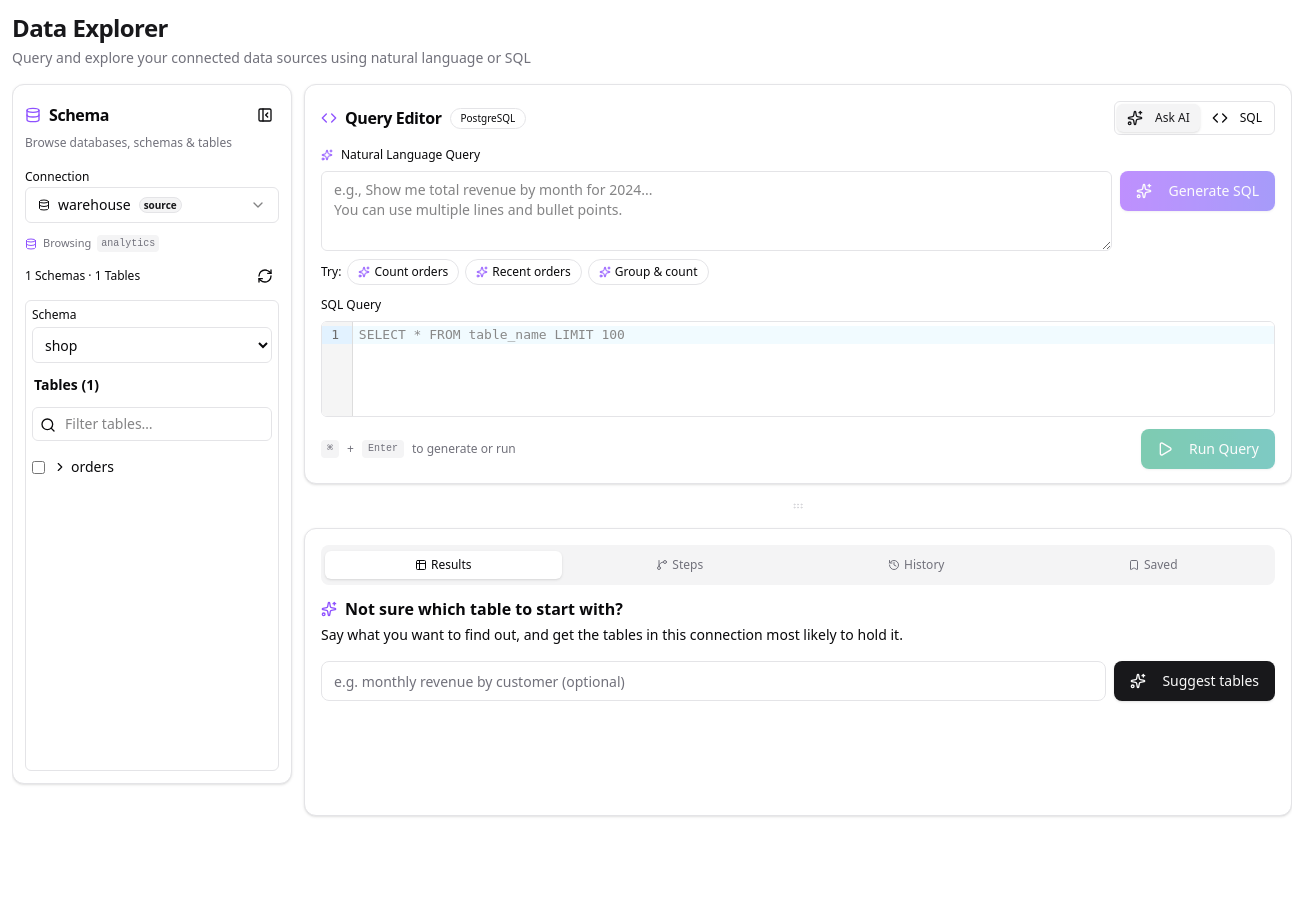
Test: a manual run leaves its own results in front › selects Results after the run, not the step timeline
This screenshot has width=1292, height=912.
Step 1. Click the tab "History" → click(916, 565), box [798,551,1034,579]
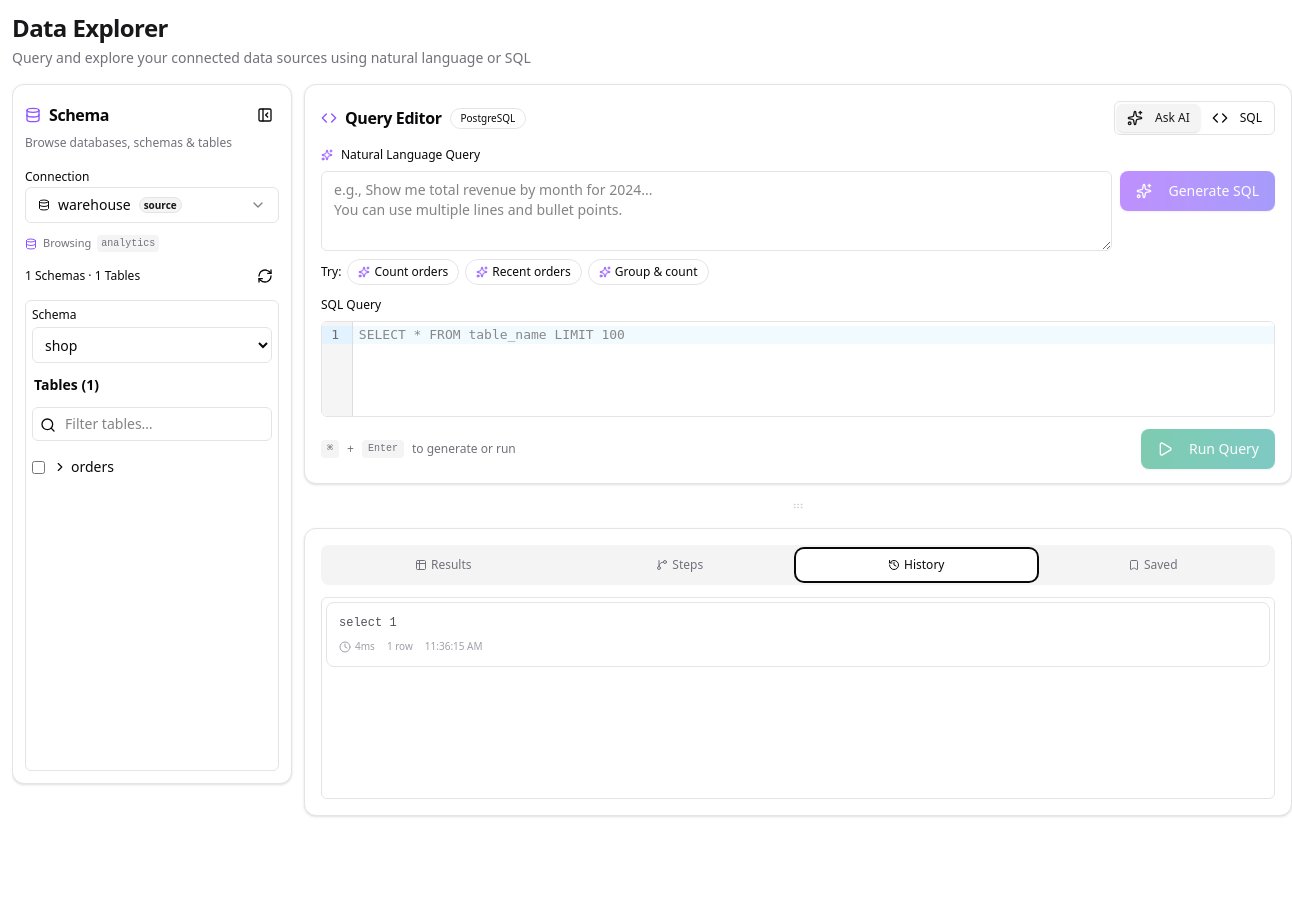
Step 2. Click the button "select 1 4ms 1 row 11:36:15 AM" → click(368, 623), box [326,602,1270,667]
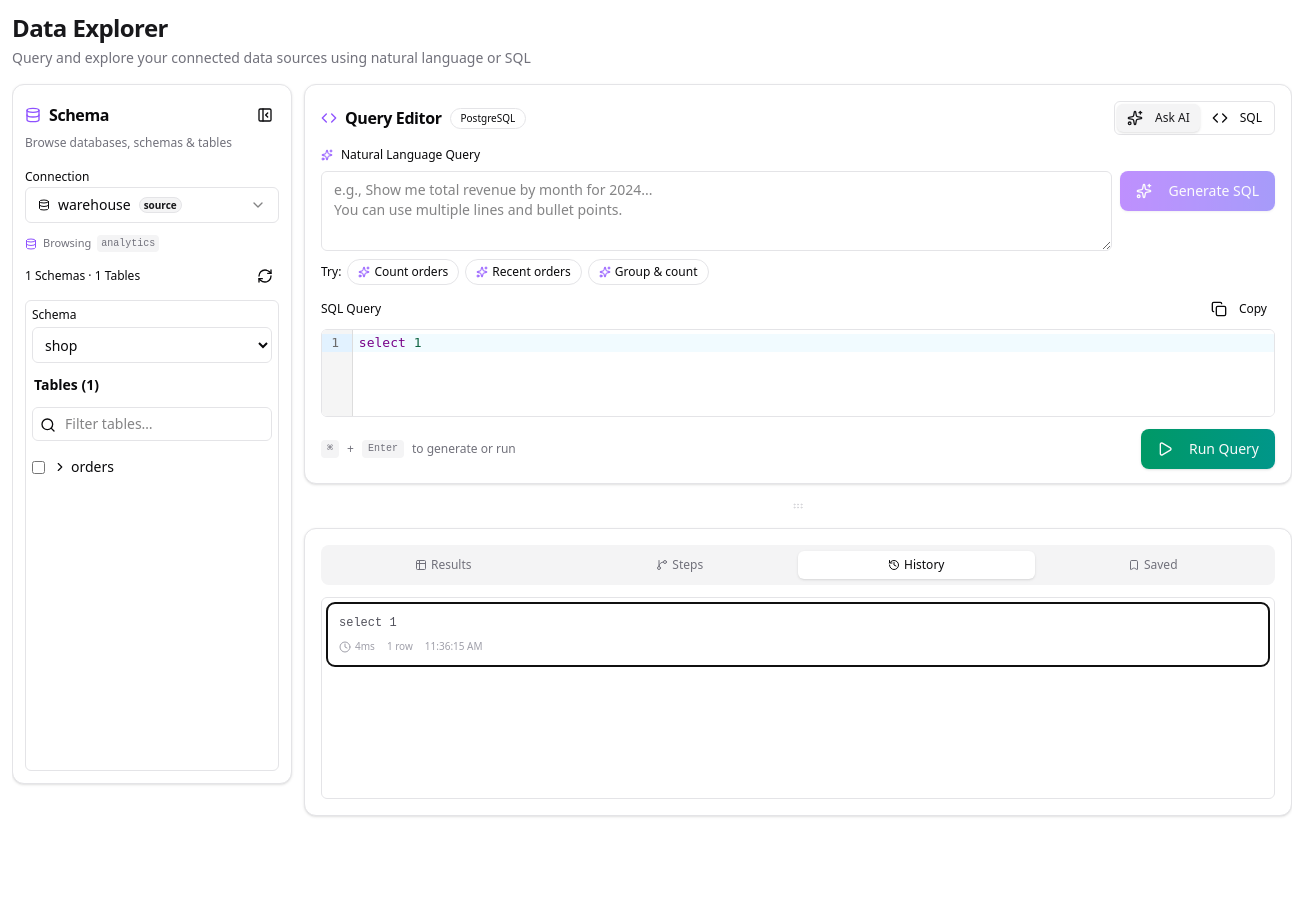
Step 3. Click the button "Run Query" → click(1208, 449), box [1141,429,1275,469]
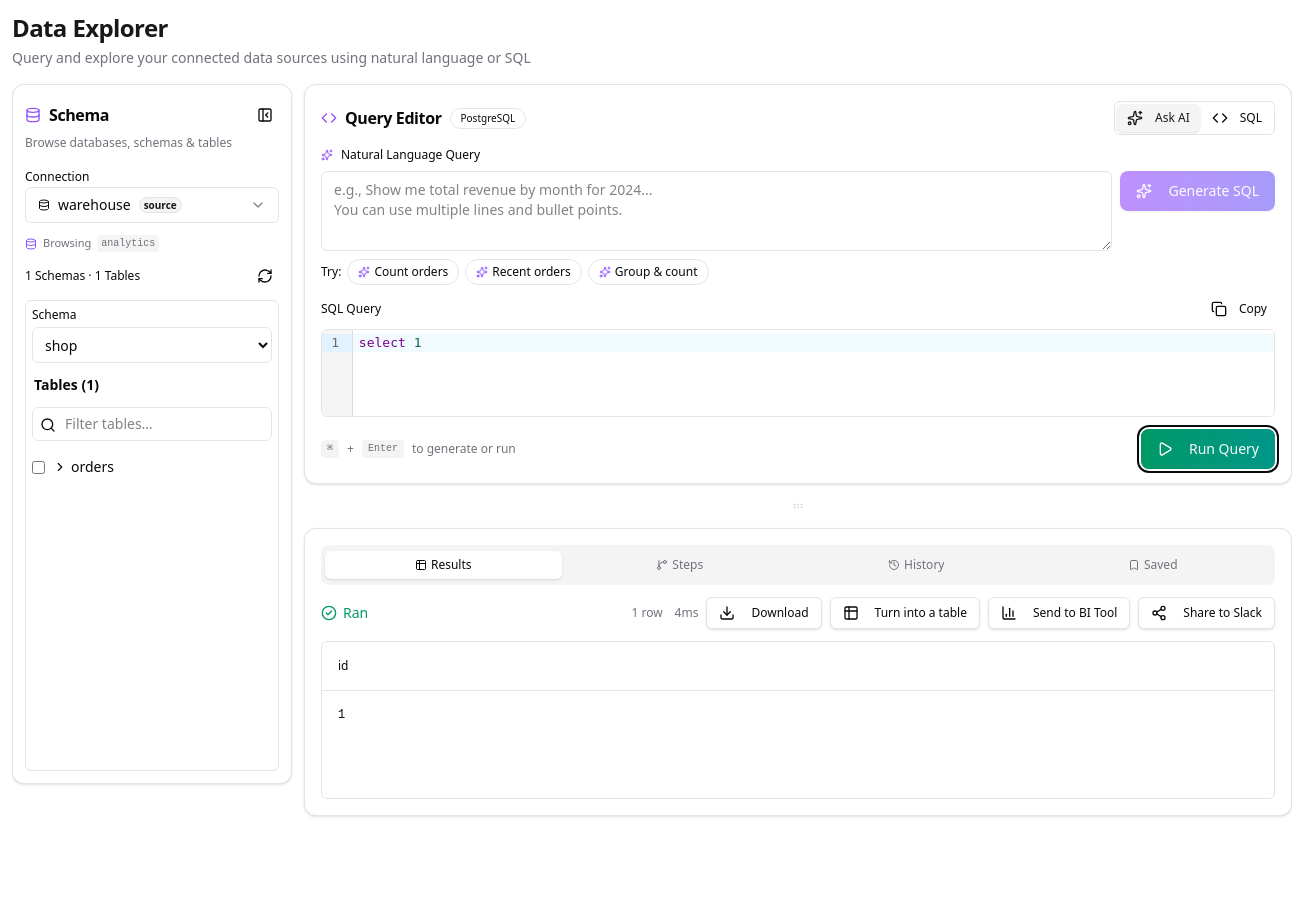
Now the element with test id "results-grid-scroller" is shown, box [321,641,1275,799]
